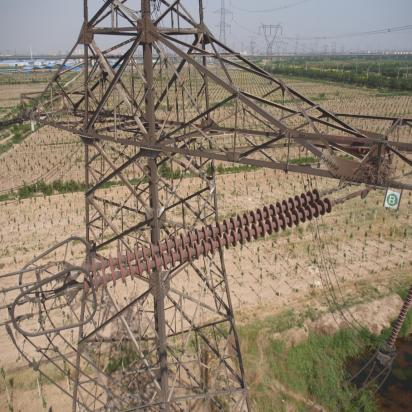insulator: (73, 186, 345, 298)
